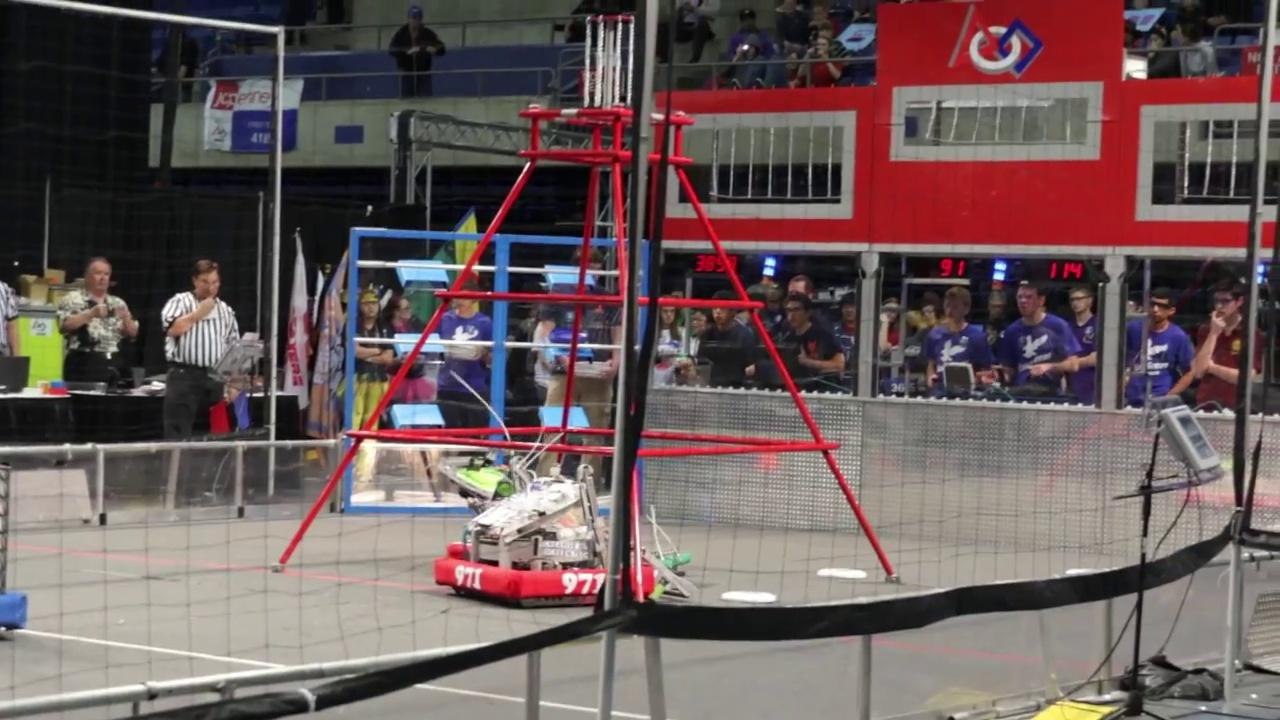robot: (428, 462, 702, 605)
